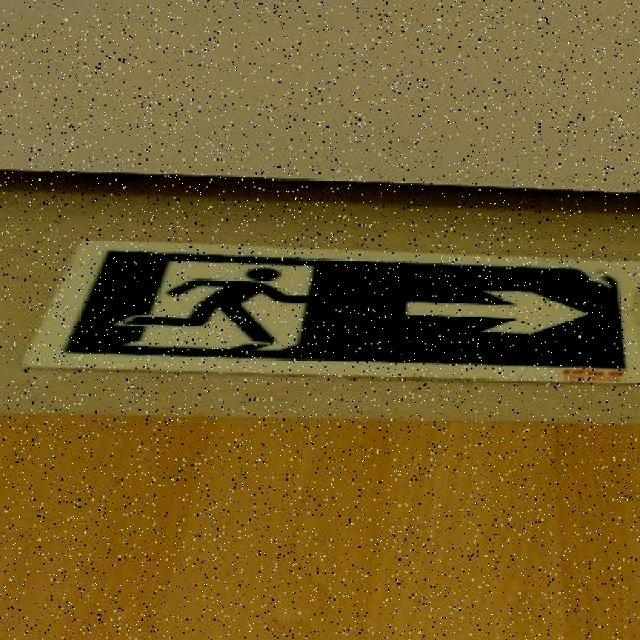emergency_exit: (20, 237, 630, 381)
